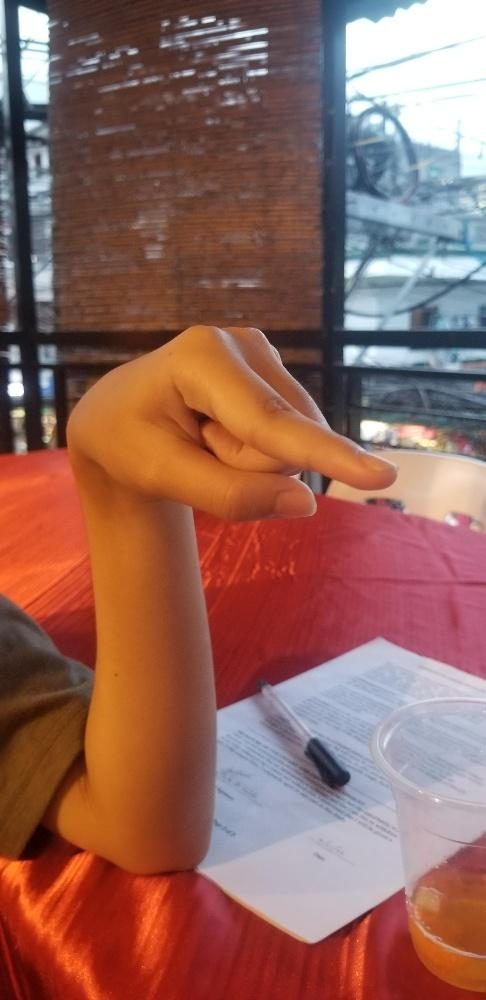z: (64, 322, 399, 523)
